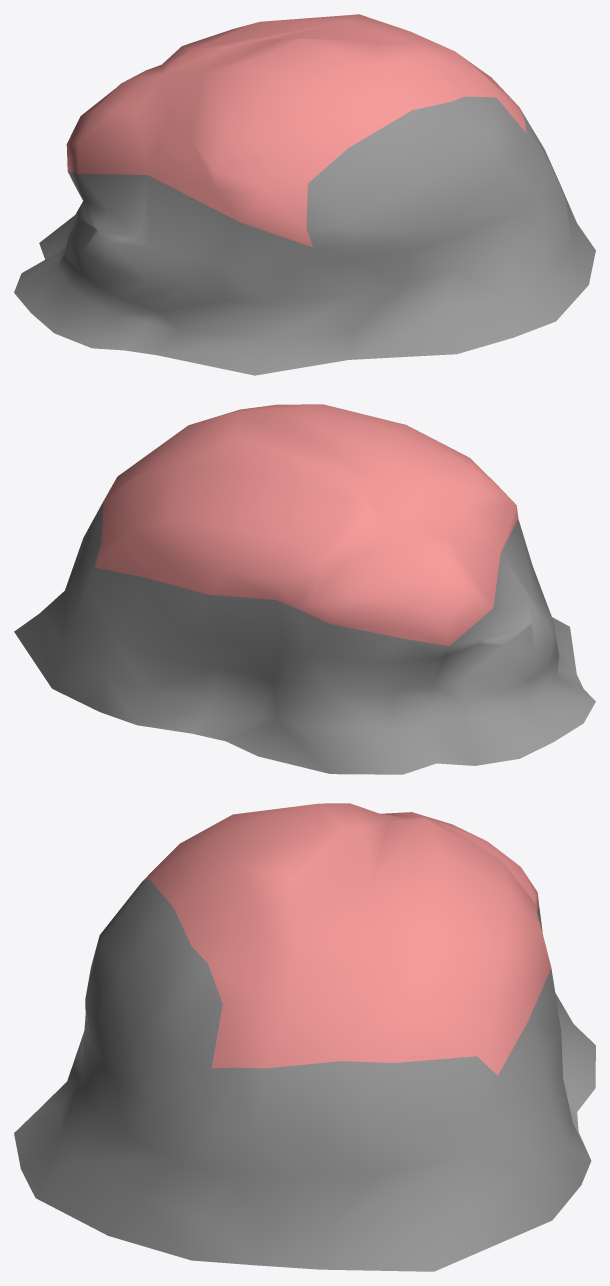
The model's file is sporeseastone04.gltf.
The picture shows the model from 3 angles, top to bottom: view 1: azimuth 30°, elevation 25°; view 2: azimuth 150°, elevation 25°; view 3: azimuth 270°, elevation 25°; orthographic projection. The views are drawn at different scales.
Parts seen in each view (by area): view 1: sporeseastone04; view 2: sporeseastone04; view 3: sporeseastone04.
Boxes of the visible parts, x1,y1,x2,y2 form: sporeseastone04: [14, 14, 595, 375]; sporeseastone04: [14, 404, 595, 774]; sporeseastone04: [14, 803, 595, 1271].
Bounding box in the file's own units: 3.27 × 1.41 × 2.61.
